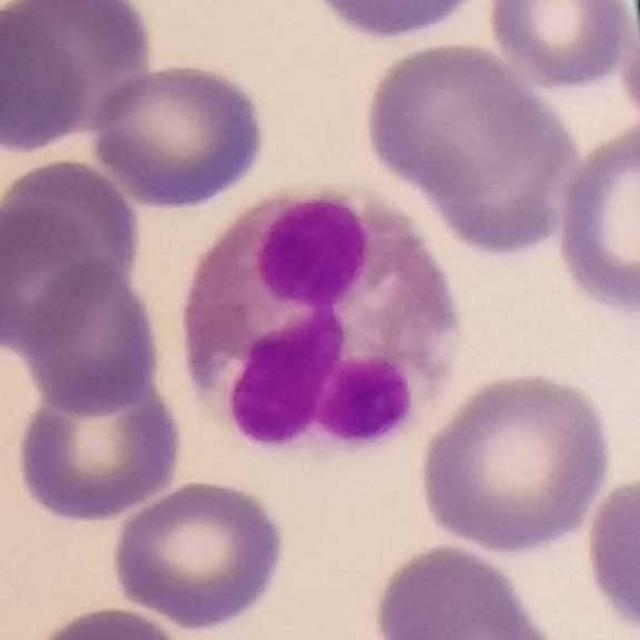eosino: (183, 181, 469, 449)
